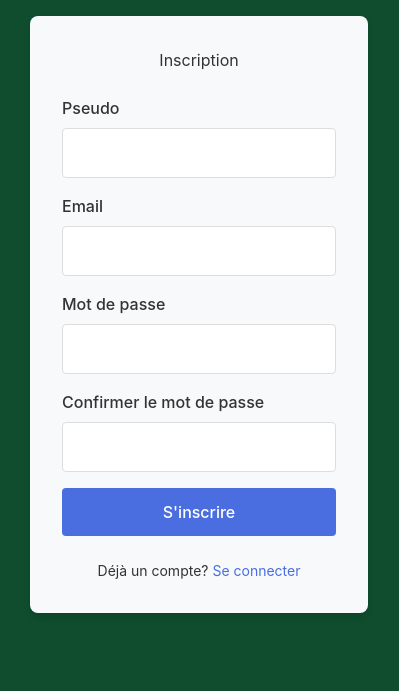
Test case: Register Component › renders email and password fields and submits the form correctly
The image size is (399, 691).
Check: the field labelled "Email" is shown, box left=62, top=226, right=336, bottom=276
Check: the password field labelled "Mot de passe" is shown, box left=62, top=324, right=336, bottom=374
Step 1. Type "testuser" into the field labelled "Pseudo" → (199, 153), box left=62, top=128, right=336, bottom=178
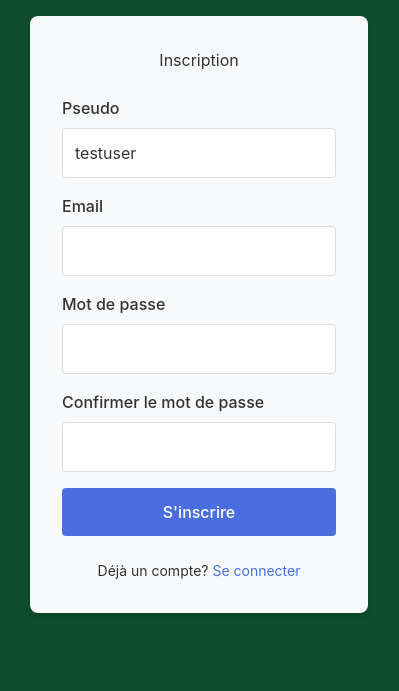
Step 2. Type "test@example.com" into the field labelled "Email" → (199, 251), box left=62, top=226, right=336, bottom=276
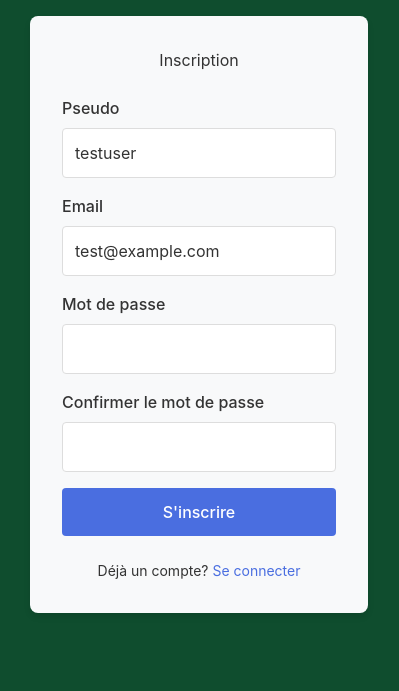
Step 3. Type "Password123" into the password field labelled "Mot de passe" → (199, 349), box left=62, top=324, right=336, bottom=374
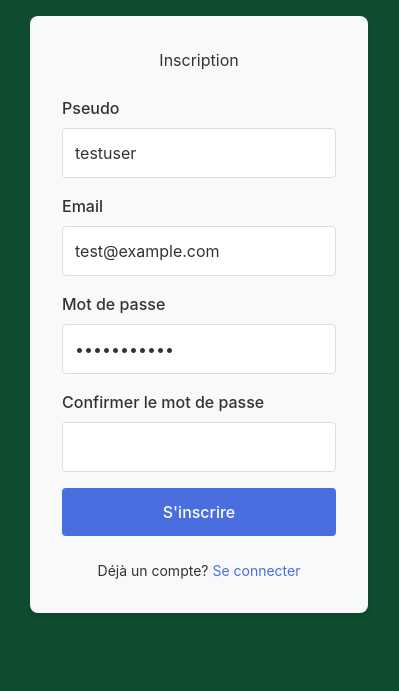
Step 4. Type "Password123" into the password field labelled "Confirmer le mot de passe" → (199, 447), box left=62, top=422, right=336, bottom=472
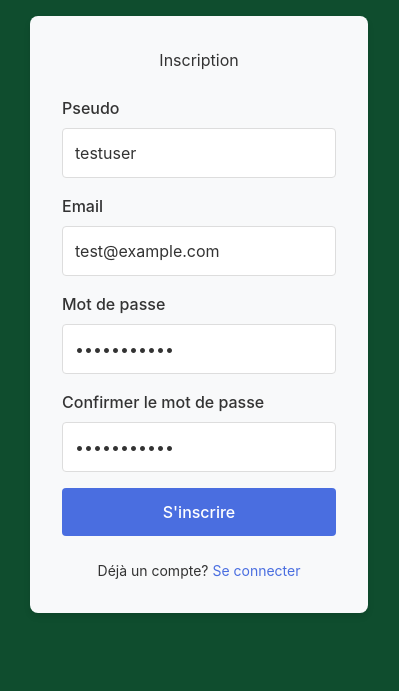
# Soumettre le formulaire
Step 5. Click the button "S'inscrire" → (199, 512), box left=62, top=488, right=336, bottom=536
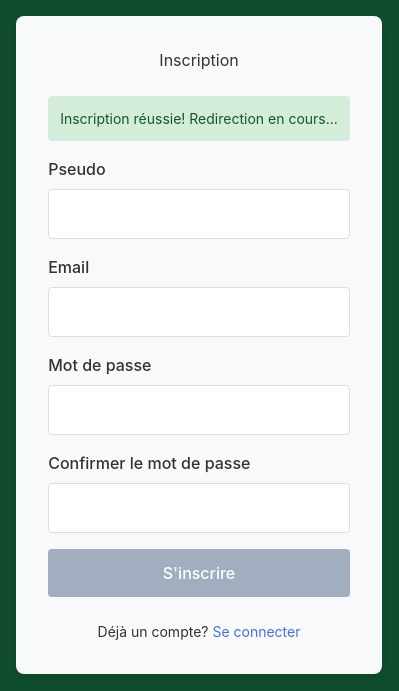
Check: the text "Inscription réussie! Redirection en cours..." is shown, box left=48, top=96, right=350, bottom=141
